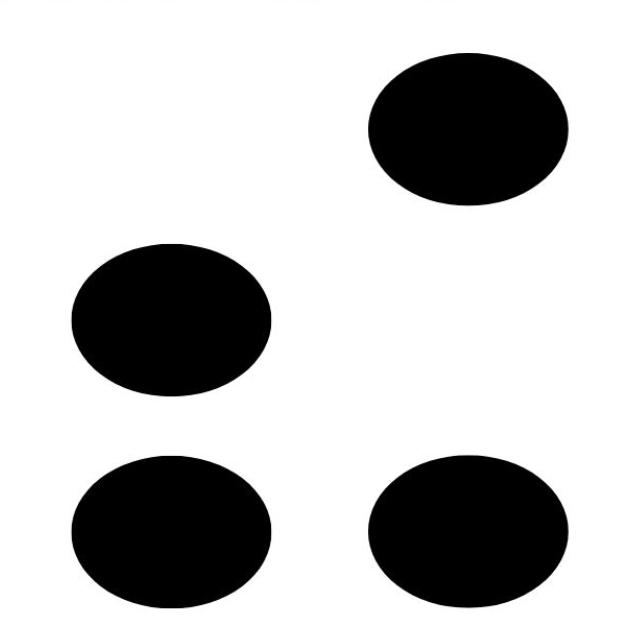one_cell_non_alphabet_ang: (69, 50, 571, 608)
